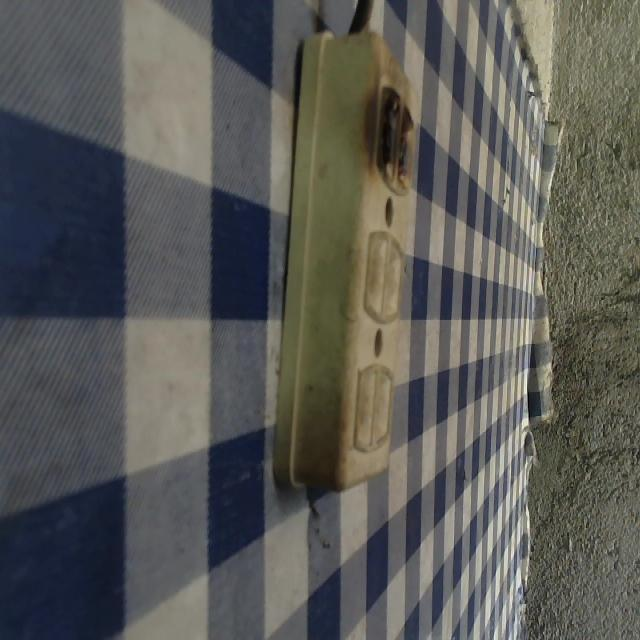-: (365, 68, 421, 191)
